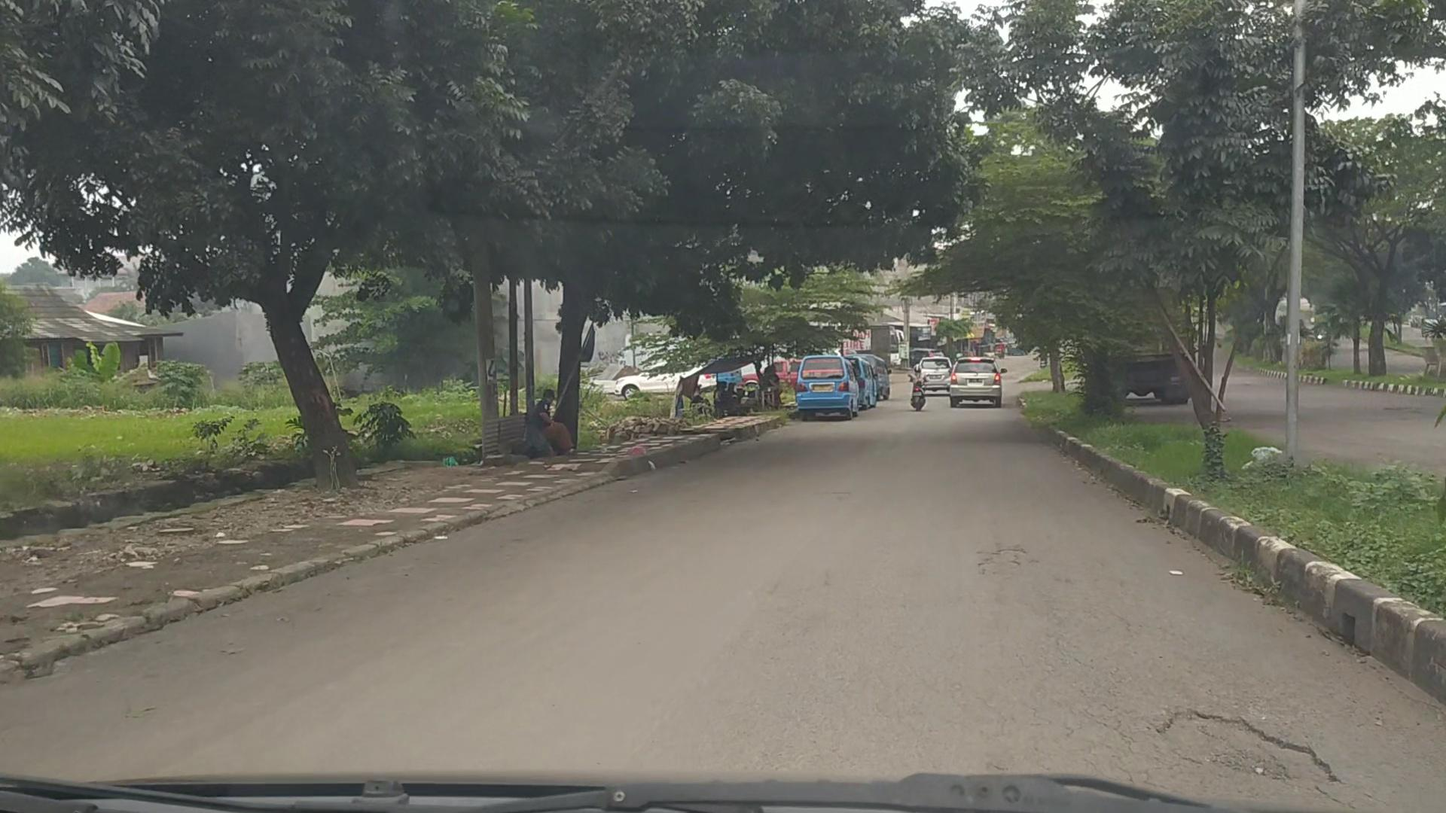pothole: (1154, 708, 1340, 788), (975, 546, 1026, 576)
